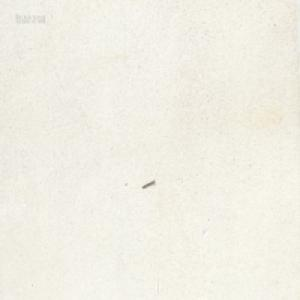Bolt: (141, 177, 154, 188)
